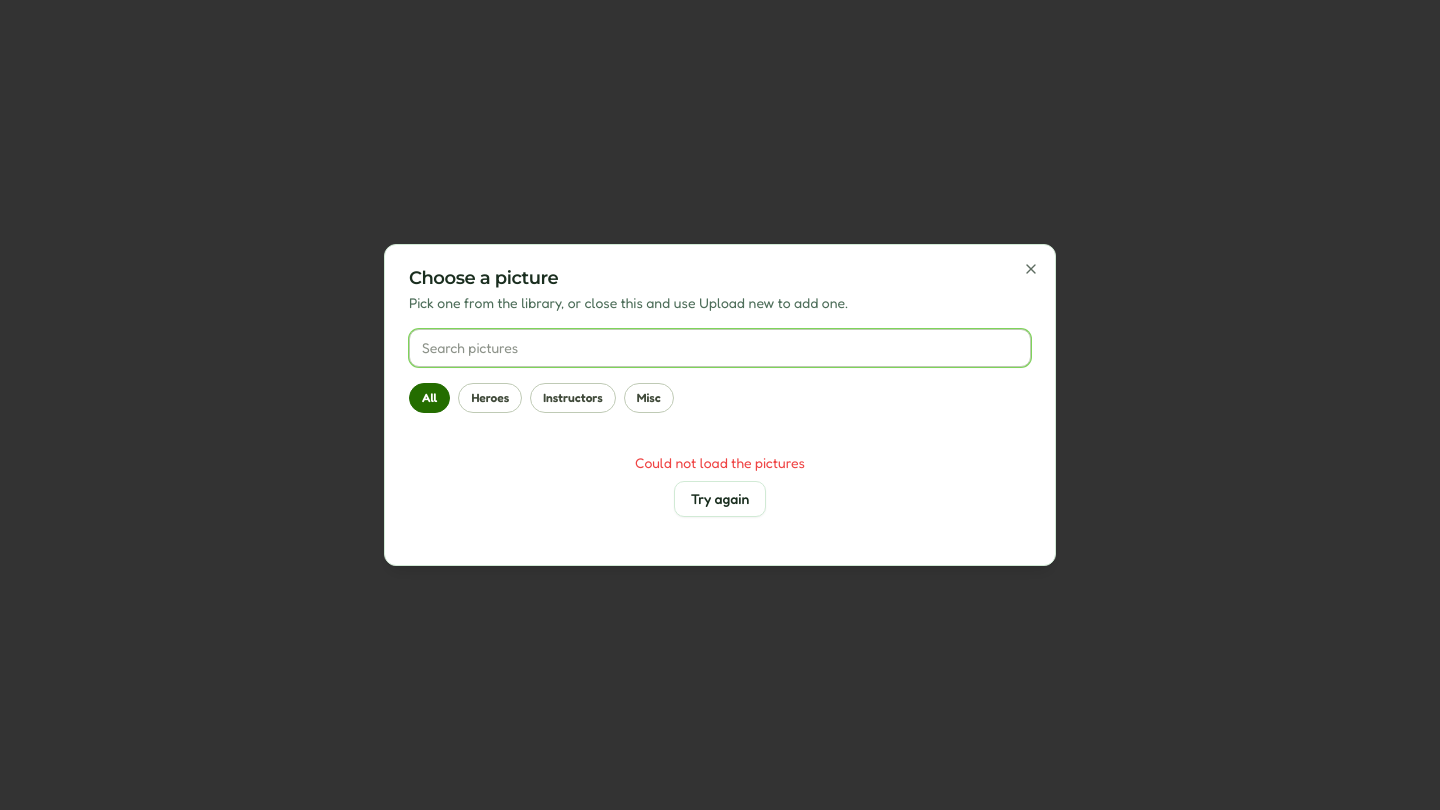
it: MediaPicker › shows an error and retry on fetch failure
Expected: the text "Could not load the pictures" is shown, x1=635 y1=454 x2=805 y2=471
Click the button "Try again".
click(720, 499)  # box x1=674 y1=481 x2=766 y2=517
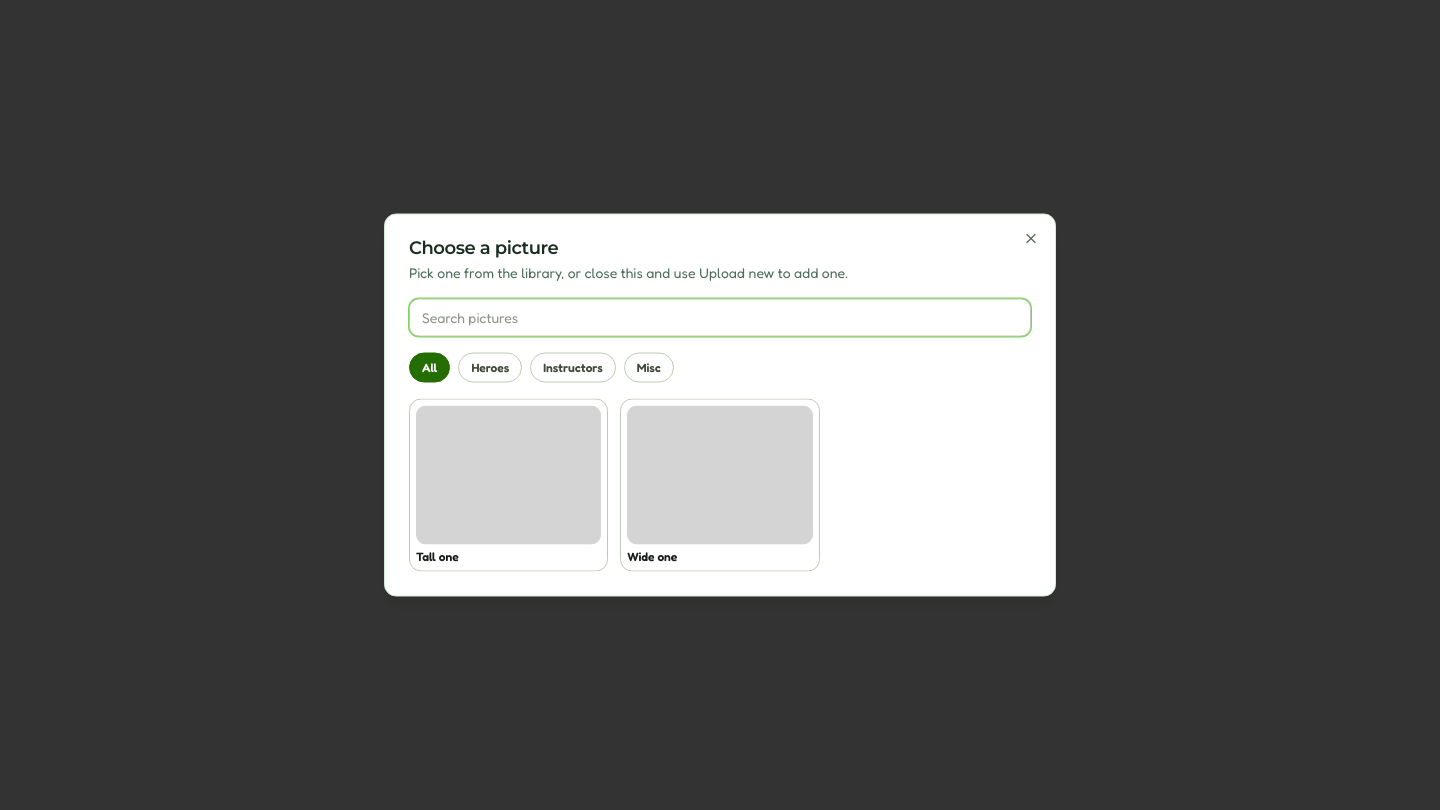
Expected: the text "Tall one" is shown, x1=416 y1=548 x2=459 y2=564
